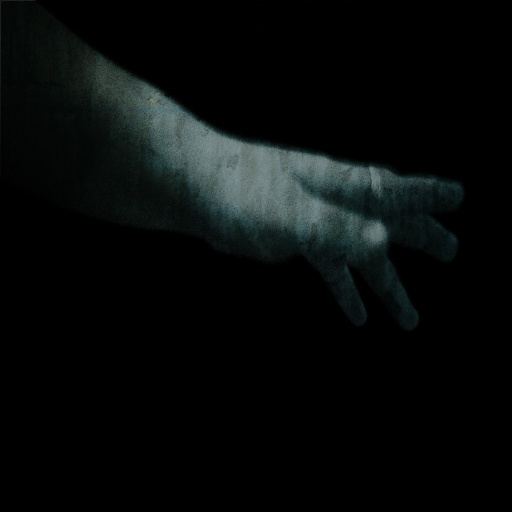hand: (208, 154, 464, 329)
